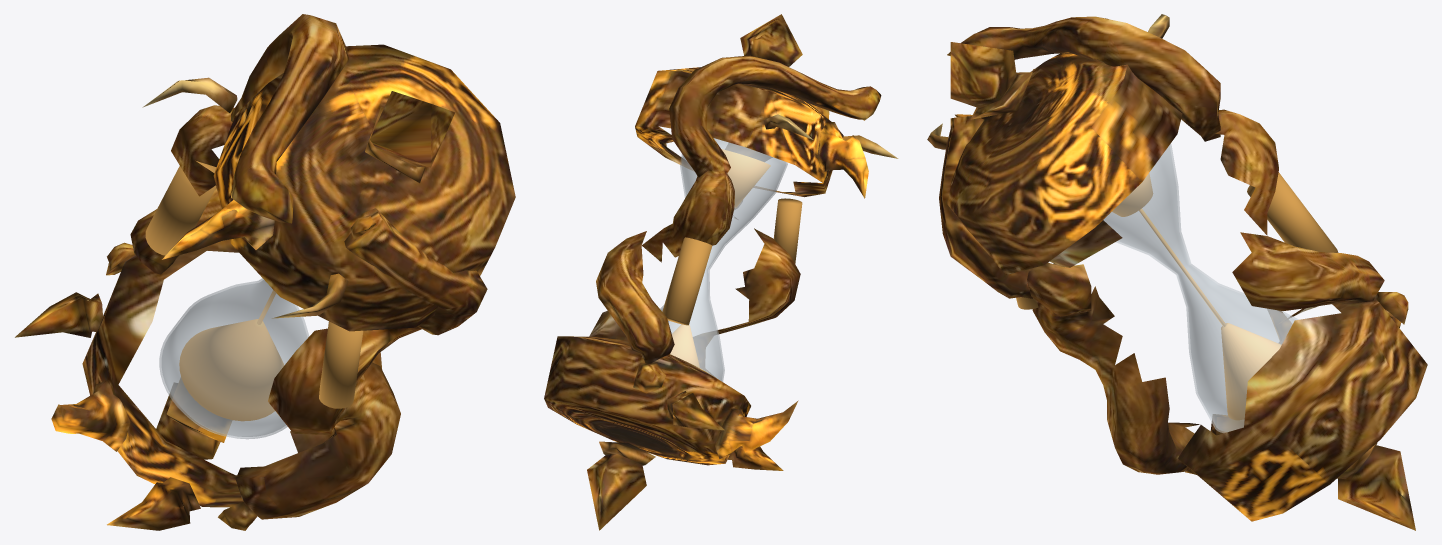
The picture shows the model from 3 angles, left to right: view 1: azimuth 30°, elevation 25°; view 2: azimuth 150°, elevation 25°; view 3: azimuth 270°, elevation 25°; orthographic projection. The views are drawn at different scales.
Parts seen in each view (by area): view 1: LG-015.002, LG-015.001, Glass_bulbs, LG-015, Lower_sand_pile, LG-015.003, LG-015.005, LG-015.017, LG-015.012, Left_frame_repair, LG-015.006, Right_frame_repair (+9 smaller); view 2: LG-015.002, LG-015.005, LG-015, Glass_bulbs, LG-015.001, LG-015.016, Left_frame_repair, LG-015.012, LG-015.006, LG-015.017, Upper_sand_reservoir, Right_frame_repair (+6 smaller); view 3: LG-015.002, Glass_bulbs, LG-015.001, LG-015.005, LG-015, LG-015.003, LG-015.016, LG-015.017, Lower_sand_pile, Left_frame_repair, LG-015.010, Upper_sand_reservoir (+2 smaller).
Part boxes in pixels (bbox=[...]): LG-015.002: bbox=[82, 44, 515, 507]; LG-015.001: bbox=[235, 326, 421, 519]; Glass_bulbs: bbox=[159, 278, 308, 439]; LG-015: bbox=[231, 14, 348, 223]; Lower_sand_pile: bbox=[179, 319, 284, 421]; LG-015.003: bbox=[344, 208, 487, 335]; LG-015.005: bbox=[130, 105, 234, 274]; LG-015.017: bbox=[370, 91, 454, 167]; LG-015.012: bbox=[51, 380, 130, 451]; Left_frame_repair: bbox=[145, 161, 216, 255]; LG-015.006: bbox=[162, 198, 274, 259]; Right_frame_repair: bbox=[319, 321, 363, 408]; LG-015.002: bbox=[544, 67, 843, 465]; LG-015.005: bbox=[596, 170, 734, 363]; LG-015: bbox=[669, 55, 881, 177]; Glass_bulbs: bbox=[660, 138, 787, 381]; LG-015.001: bbox=[668, 217, 800, 375]; LG-015.016: bbox=[587, 454, 646, 530]; Left_frame_repair: bbox=[662, 237, 712, 325]; LG-015.012: bbox=[715, 400, 798, 458]; LG-015.006: bbox=[817, 122, 868, 198]; LG-015.017: bbox=[740, 14, 802, 66]; Upper_sand_reservoir: bbox=[721, 149, 770, 207]; Right_frame_repair: bbox=[773, 198, 802, 263]; LG-015.002: bbox=[947, 53, 1427, 521]; Glass_bulbs: bbox=[1103, 143, 1298, 432]; LG-015.001: bbox=[1027, 262, 1200, 474]; LG-015.005: bbox=[1215, 109, 1384, 310]; LG-015: bbox=[947, 16, 1220, 141]; LG-015.003: bbox=[939, 116, 1033, 298]; LG-015.016: bbox=[1338, 445, 1415, 530]; LG-015.017: bbox=[950, 42, 1016, 107]; Lower_sand_pile: bbox=[1221, 323, 1281, 420]; Left_frame_repair: bbox=[1247, 172, 1337, 252]; LG-015.010: bbox=[970, 72, 1032, 119]; Upper_sand_reservoir: bbox=[1112, 173, 1153, 216].
Bounding box in the file's own units: 0.183 × 0.3 × 0.2723.
4 materials, 1 textured.
